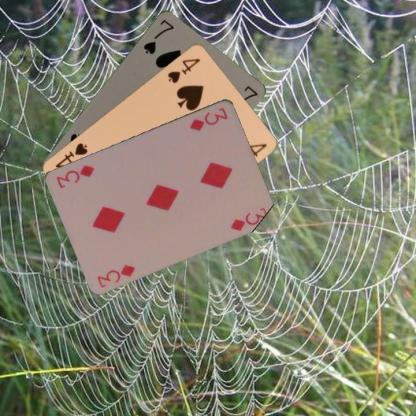3d: (94, 261, 138, 288), (188, 104, 230, 132)
4s: (164, 55, 202, 84)
7s: (140, 16, 176, 56)
